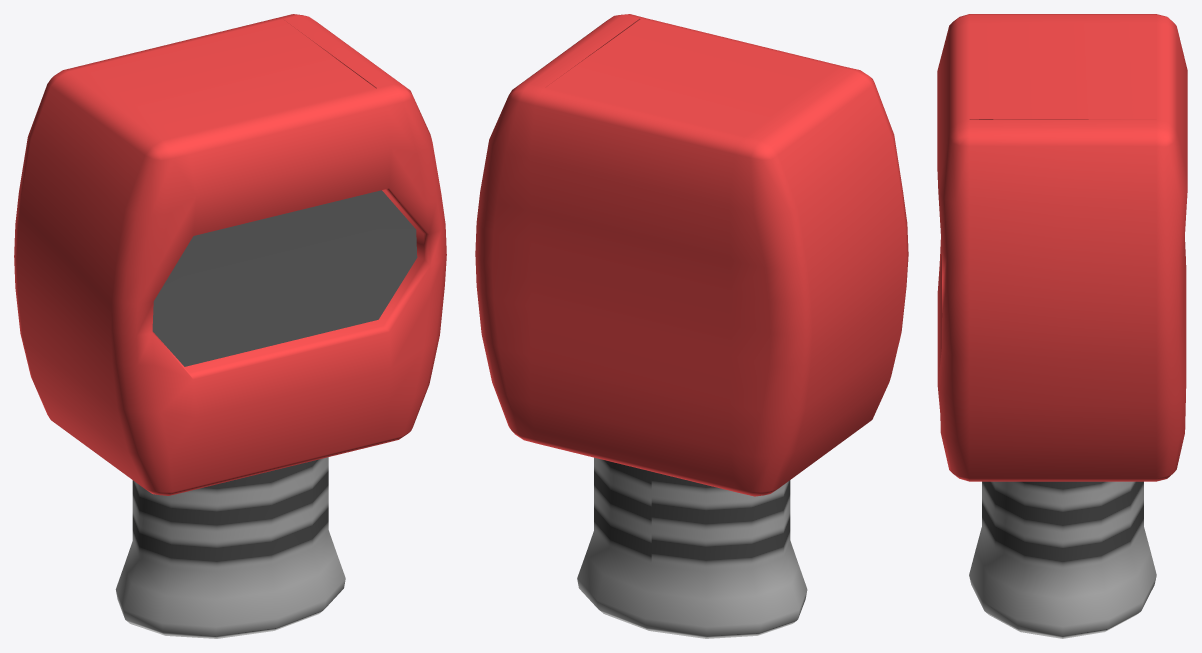
Rendered from Dispencer.fbx.
The picture shows the model from 3 angles, left to right: view 1: azimuth 30°, elevation 25°; view 2: azimuth 150°, elevation 25°; view 3: azimuth 270°, elevation 25°; orthographic projection.
Visible parts, largest first — view 1: pCube1, pCube2; view 2: pCube1, pCube2; view 3: pCube1, pCube2.
Boxes of the visible parts, left/top/right/bottom form: pCube1: left=14, top=14, right=446, bottom=495; pCube2: left=115, top=457, right=345, bottom=638; pCube1: left=475, top=14, right=908, bottom=496; pCube2: left=577, top=457, right=807, bottom=638; pCube1: left=937, top=14, right=1187, bottom=481; pCube2: left=969, top=481, right=1156, bottom=638.
Bounding box in the file's own units: 9.85 × 14.69 × 6.43.
